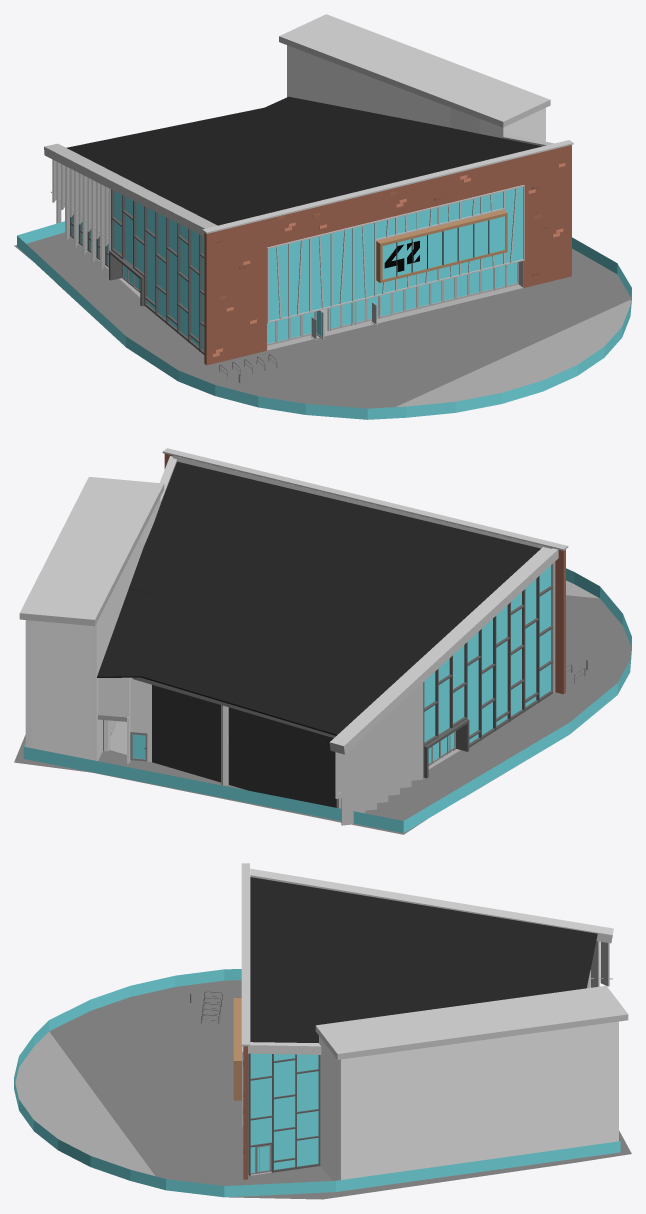
Rendered from 42WOB_v5.glb.
The picture shows the model from 3 angles, top to bottom: view 1: azimuth 30°, elevation 25°; view 2: azimuth 150°, elevation 25°; view 3: azimuth 270°, elevation 25°; orthographic projection. The views are drawn at different scales.
Visible parts, largest first — view 1: Ground.003, Cube.2922, Cube.2723, Plane.080, Cube.2916, EndWall_NOCOL.001, Cube.2915, Ground.004, Plane.097, Plane.081, Cube.2826, Cube.2921 (+10 smaller); view 2: Cube.2922, Ground.003, Cube.2915, Cube.2916, EndWall_NOCOL.001, Cube.718, Plane.097, Cube.2921, Cube.717, Cube.2828, Cube.2826, Cube.2724 (+10 smaller); view 3: Cube.2922, Cube.2915, Ground.003, Cube.2916, EndWall_NOCOL.001, Ground.004, Plane.100, Cube.2921, Cube.2724, Cube.2863, Cube.2726, Cube.2923 (+1 smaller).
Boxes of the visible parts, x1,y1,x2,y2 form: Ground.003: (14,232,630,408); Cube.2922: (66,96,541,225); Cube.2723: (204,145,571,365); Plane.080: (268,187,522,320); Cube.2916: (279,14,550,127); EndWall_NOCOL.001: (17,221,631,419); Cube.2915: (287,45,545,141); Ground.004: (395,299,630,407); Plane.097: (147,208,204,350); Plane.081: (382,216,505,279); Cube.2826: (111,189,202,351); Cube.2921: (44,143,217,236); Cube.2922: (97,461,540,735); Ground.003: (14,595,631,834); Cube.2915: (25,497,160,760); Cube.2916: (19,476,164,626); EndWall_NOCOL.001: (23,568,631,833); Cube.718: (228,707,336,807); Plane.097: (467,565,550,743); Cube.2921: (329,547,558,754); Cube.717: (152,685,220,782); Cube.2828: (341,683,423,825); Cube.2826: (423,576,539,777); Cube.2724: (162,448,568,550); Cube.2922: (250,877,597,1042); Cube.2915: (319,1021,618,1180); Ground.003: (49,980,631,1199); Cube.2916: (315,985,628,1059); EndWall_NOCOL.001: (14,969,620,1197); Ground.004: (15,1031,154,1175); Plane.100: (250,1053,318,1169); Cube.2921: (250,868,613,943); Cube.2724: (241,863,249,1046); Cube.2863: (248,1053,320,1176); Cube.2726: (233,998,241,1100); Cube.2923: (248,1042,321,1054).
Size of the model in its own units: 36.09 by 10.74 by 42.66.
